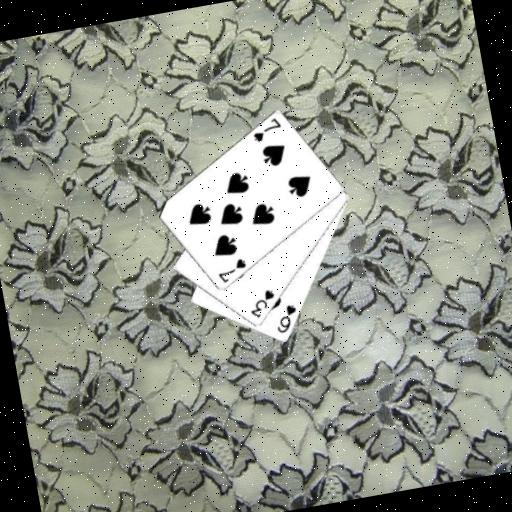3S: (244, 286, 279, 321)
6S: (269, 300, 301, 336)
7S: (212, 254, 249, 285), (247, 114, 284, 145)
